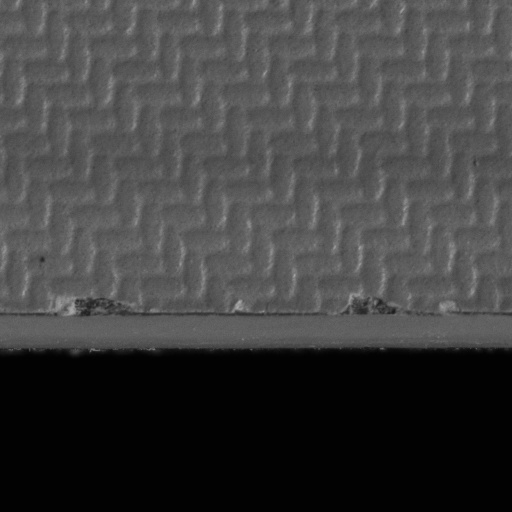bengque: (50, 295, 161, 318), (337, 292, 404, 318)
